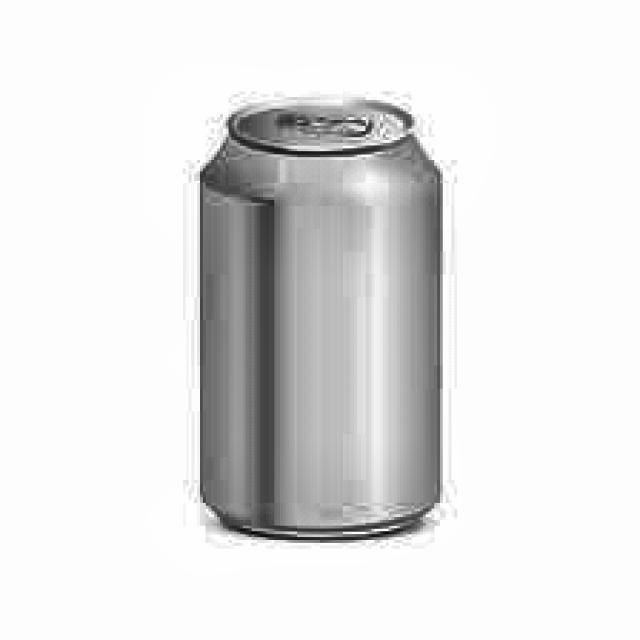can: (182, 93, 461, 560)
